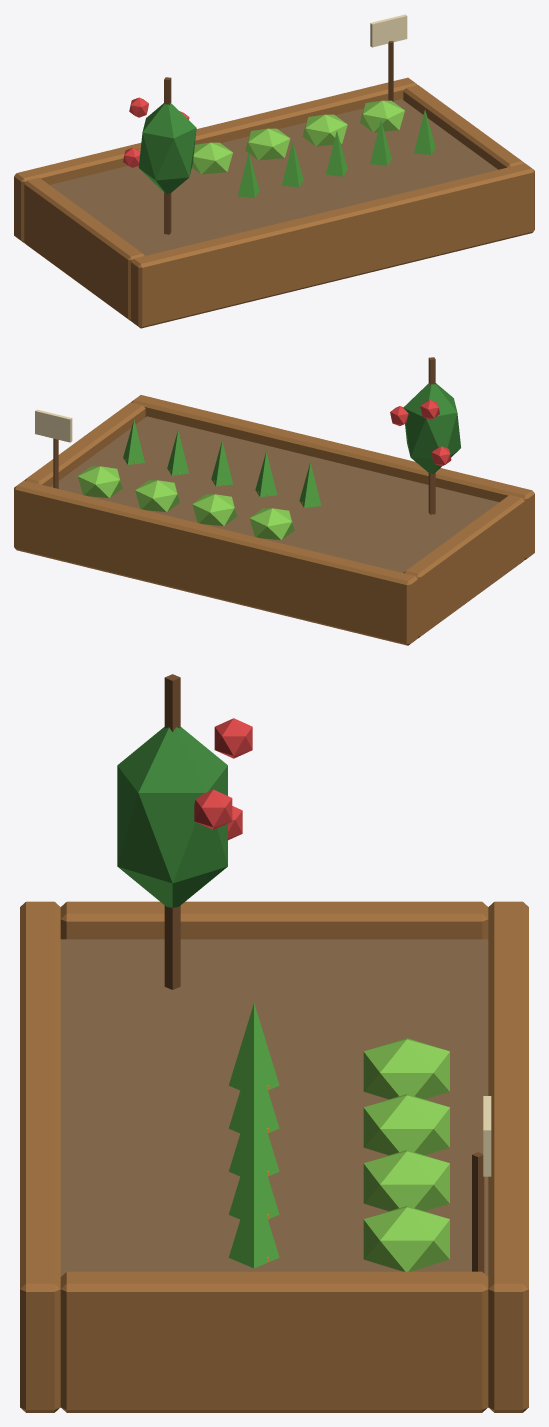
The model's file is horta.glb.
The picture shows the model from 3 angles, top to bottom: view 1: azimuth 30°, elevation 25°; view 2: azimuth 150°, elevation 25°; view 3: azimuth 270°, elevation 25°; orthographic projection. The views are drawn at different scales.
Parts seen in each view (by area): view 1: corpo; view 2: corpo; view 3: corpo.
Part boxes in pixels (x1,y1,x2,y2): corpo: (14, 14, 534, 328); corpo: (14, 357, 534, 645); corpo: (20, 674, 528, 1412).
Size of the model in its own units: 0.9 by 0.45 by 0.5.
